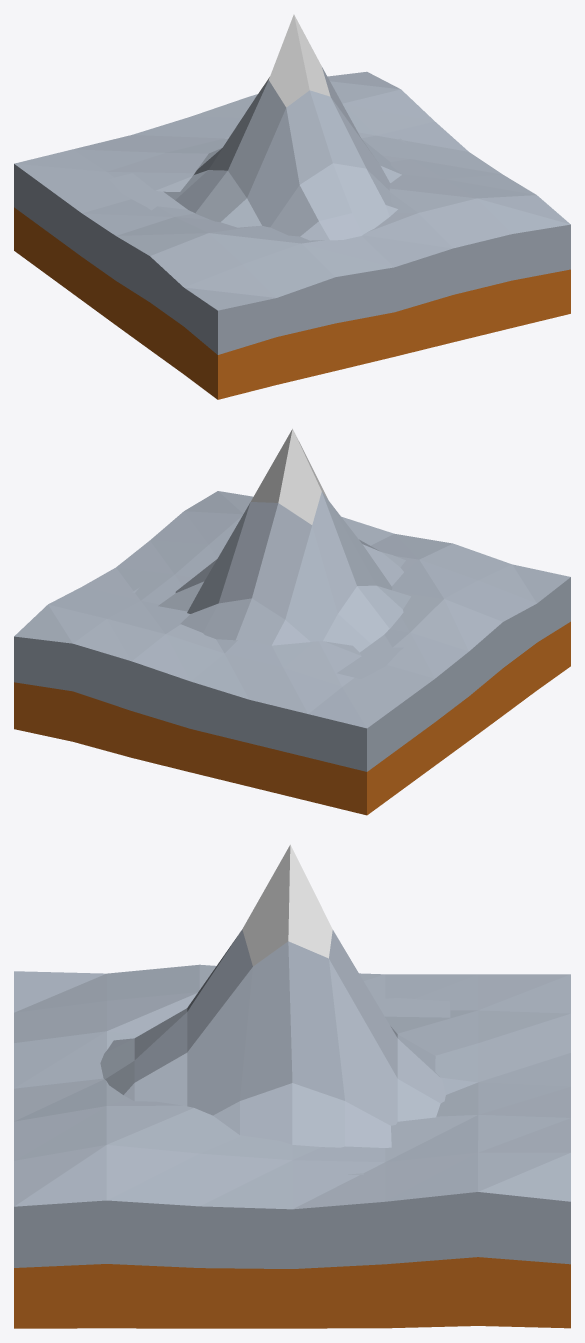
File: TILE_neutre-roche.fbx
The picture shows the model from 3 angles, top to bottom: view 1: azimuth 30°, elevation 25°; view 2: azimuth 150°, elevation 25°; view 3: azimuth 270°, elevation 25°; orthographic projection. The views are drawn at different scales.
Parts seen in each view (by area): view 1: tile_montagne; view 2: tile_montagne; view 3: tile_montagne.
Boxes of the visible parts, box(x1,y1,x2,y2) form: tile_montagne: box(14, 14, 570, 399); tile_montagne: box(14, 429, 570, 815); tile_montagne: box(14, 844, 570, 1328).
Size of the model in its own units: 5 by 3.63 by 5.
